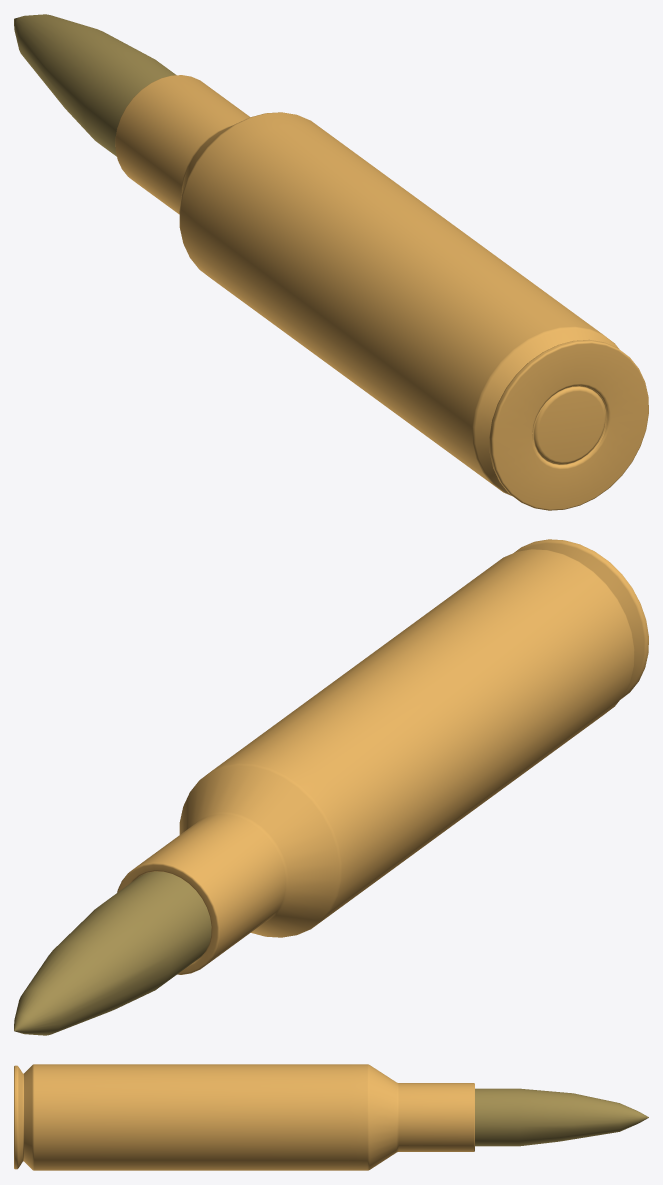
The model's file is SM_FPVM_LooseRound.fbx.
The picture shows the model from 3 angles, top to bottom: view 1: azimuth 30°, elevation 25°; view 2: azimuth 150°, elevation 25°; view 3: azimuth 270°, elevation 25°; orthographic projection. The views are drawn at different scales.
Visible parts, largest first — view 1: W_mauser_clip; view 2: W_mauser_clip; view 3: W_mauser_clip.
Part boxes in pixels (x1,y1,x2,y2): W_mauser_clip: (14, 14, 648, 510); W_mauser_clip: (14, 539, 648, 1035); W_mauser_clip: (14, 1064, 648, 1170).
Size of the model in its own units: 1.34 by 8 by 1.34.
